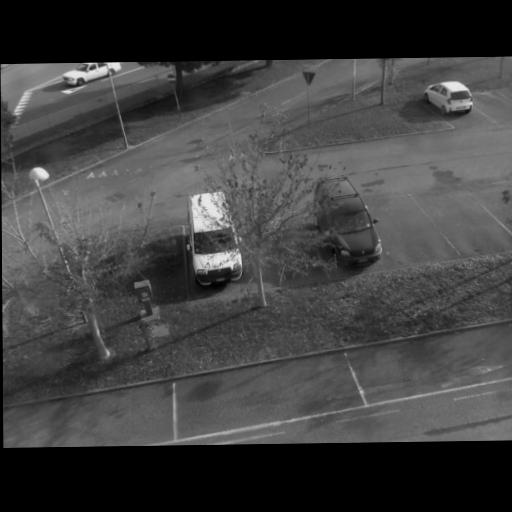busy: (307, 184, 386, 272), (424, 83, 476, 117)
free: (216, 356, 338, 426), (383, 332, 506, 401), (30, 388, 150, 447), (382, 198, 424, 268), (443, 198, 486, 257), (476, 89, 505, 117)
